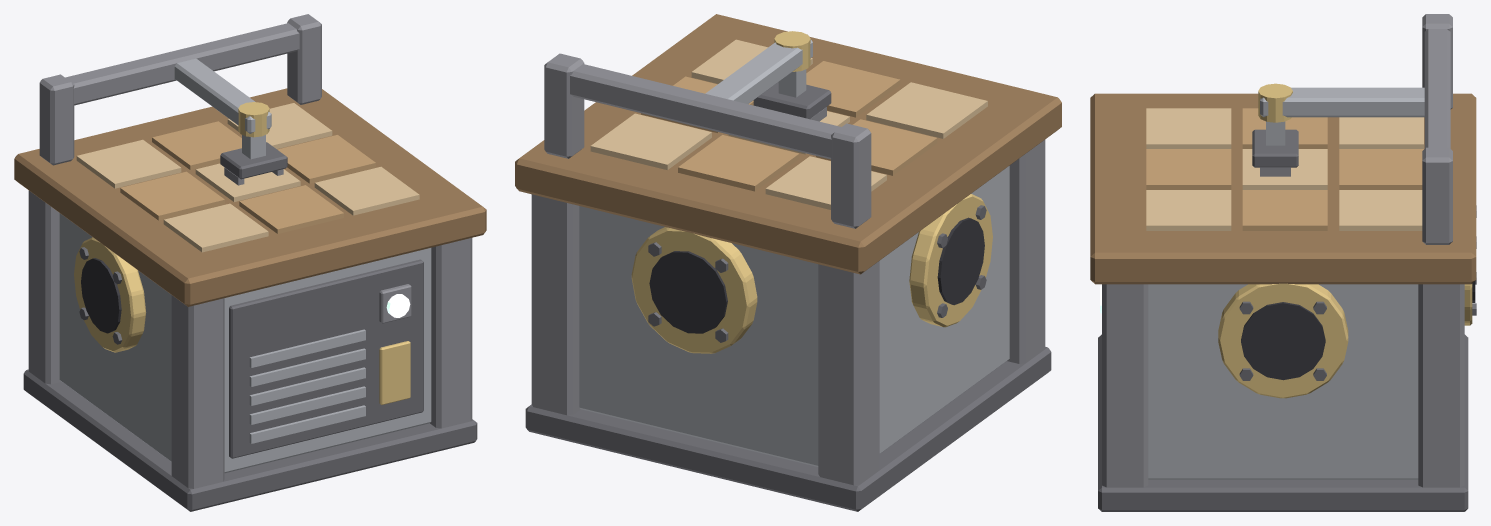
Rendered from autocrafter_on.gltf.
The picture shows the model from 3 angles, left to right: view 1: azimuth 30°, elevation 25°; view 2: azimuth 150°, elevation 25°; view 3: azimuth 270°, elevation 25°; orthographic projection. The views are drawn at different scales.
Visible parts, largest first — view 1: Autocrafter_on; view 2: Autocrafter_on; view 3: Autocrafter_on.
Part boxes in pixels (<box>): Autocrafter_on: <box>14,14,486,511</box>; Autocrafter_on: <box>515,14,1061,511</box>; Autocrafter_on: <box>1090,14,1476,511</box>.
Size of the model in its own units: 1 by 1 by 1.
